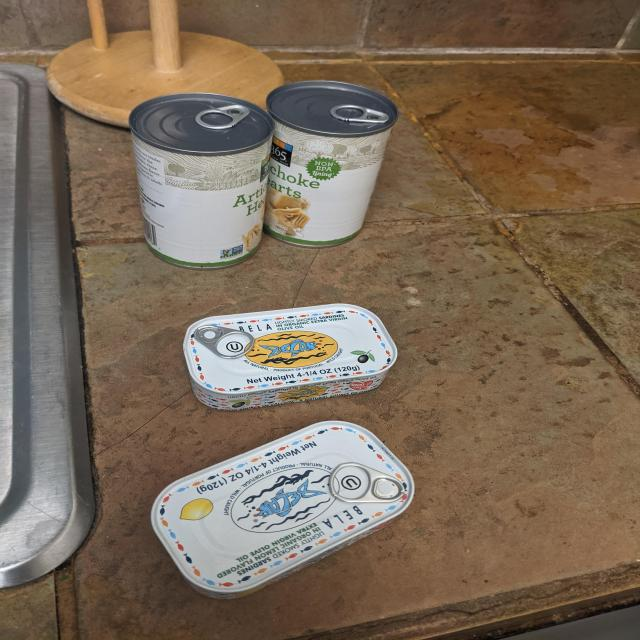litter: (150, 420, 415, 600), (129, 93, 275, 270), (183, 303, 398, 411), (263, 80, 399, 249)
